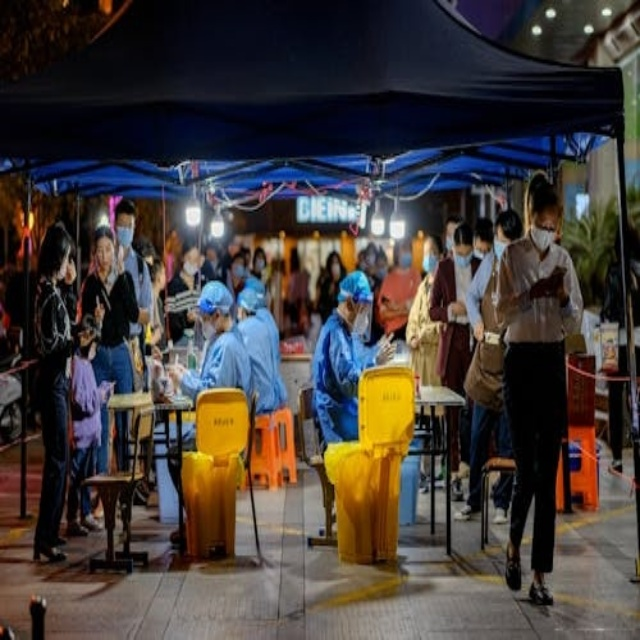Mascara: (530, 215, 558, 259), (419, 248, 438, 279), (113, 223, 133, 248), (180, 254, 200, 277), (353, 308, 369, 336), (198, 315, 216, 338), (397, 246, 413, 271), (453, 248, 472, 269), (492, 234, 504, 258), (472, 240, 484, 261), (234, 259, 246, 279), (255, 254, 265, 275)
